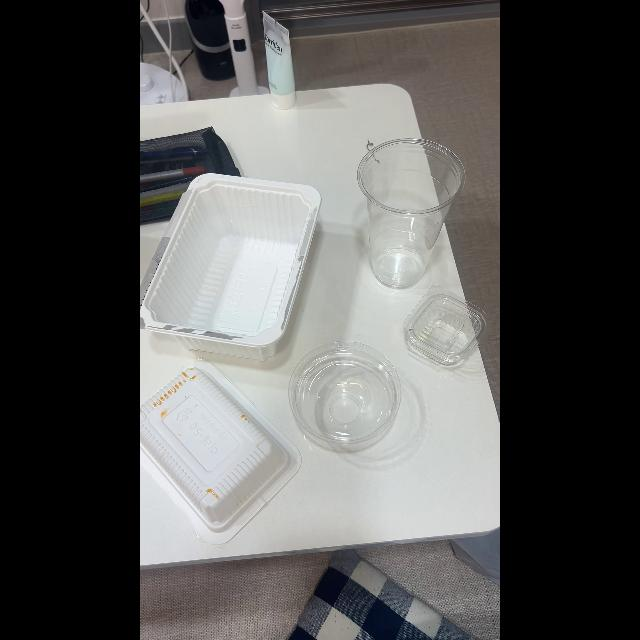clean: (140, 177, 322, 351), (362, 147, 458, 285), (292, 344, 402, 446), (404, 288, 488, 364)
dirty: (141, 370, 289, 528)
